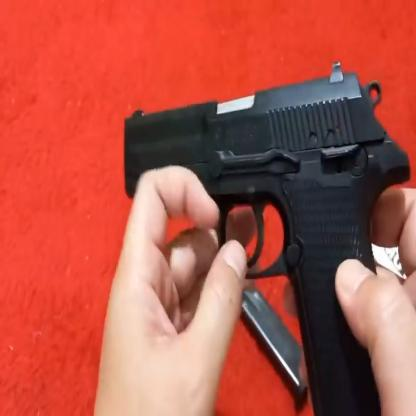handgun: (117, 68, 394, 390)
